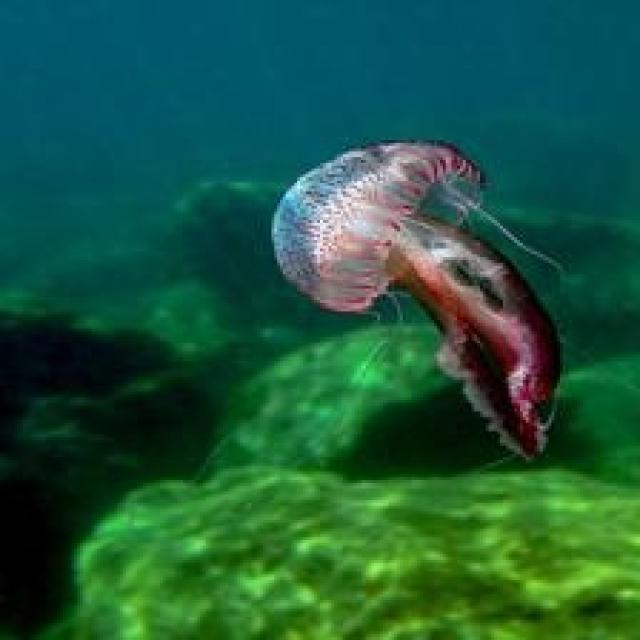Box-jellyfish: (268, 134, 563, 460)
